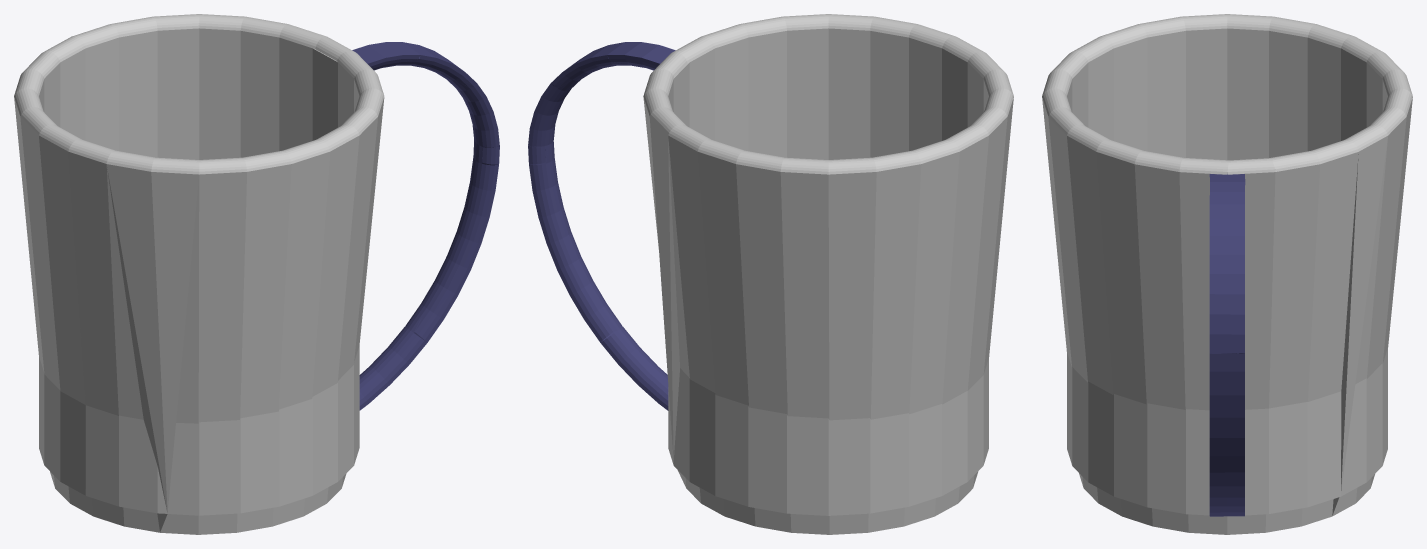
The picture shows the model from 3 angles, left to right: view 1: azimuth 30°, elevation 25°; view 2: azimuth 150°, elevation 25°; view 3: azimuth 270°, elevation 25°; orthographic projection.
Visible parts, largest first — view 1: mesh1_mesh1-geometry, mesh2_mesh2-geometry; view 2: mesh1_mesh1-geometry, mesh2_mesh2-geometry; view 3: mesh1_mesh1-geometry, mesh2_mesh2-geometry.
Part boxes in pixels (box(x1,y1,x2,y2)): mesh1_mesh1-geometry: box(14, 14, 384, 534); mesh2_mesh2-geometry: box(352, 42, 499, 410); mesh1_mesh1-geometry: box(643, 14, 1013, 534); mesh2_mesh2-geometry: box(528, 42, 675, 410); mesh1_mesh1-geometry: box(1042, 14, 1412, 534); mesh2_mesh2-geometry: box(1209, 174, 1245, 516).
Size of the model in its own units: 0.6803 by 0.5516 by 0.4826.
